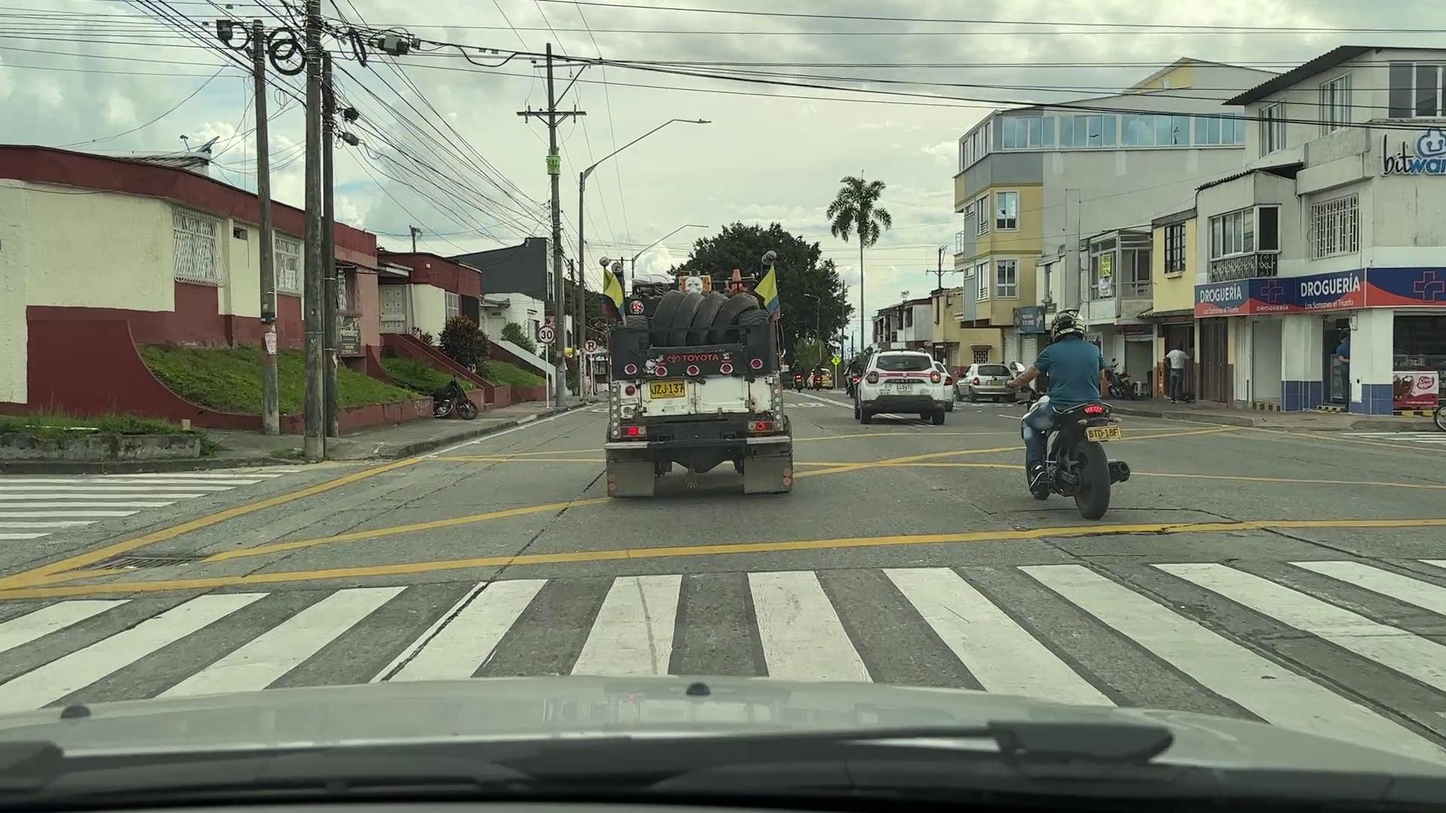grieta: (1038, 508, 1243, 538)
rejilla: (77, 553, 218, 571)
